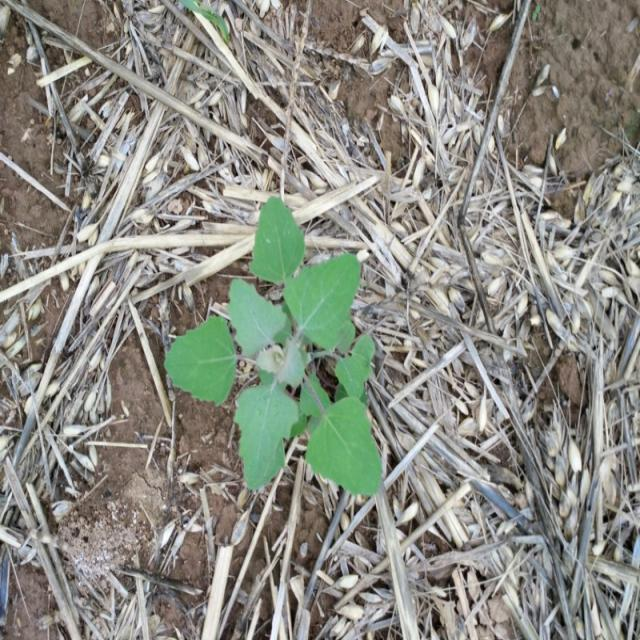goosefoots: (160, 202, 386, 476)
